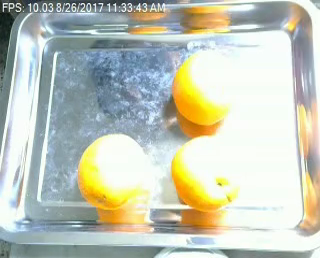Orange: (76, 132, 148, 210), (172, 136, 239, 211), (172, 50, 239, 124)
